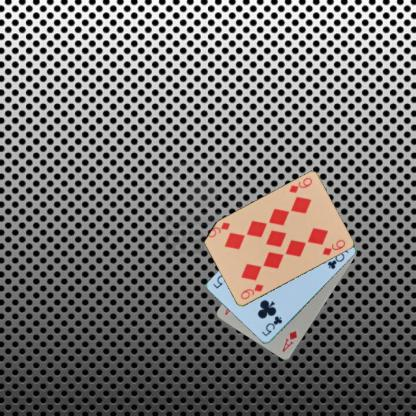5c: (260, 314, 283, 337)
9d: (238, 281, 265, 301), (287, 175, 313, 194)
Ad: (280, 328, 298, 354)
